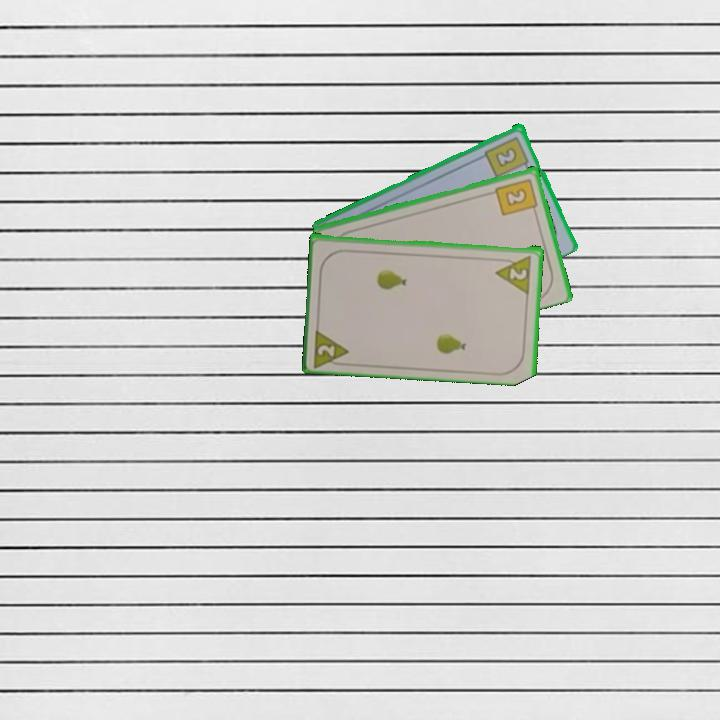2b: (481, 133, 532, 180), (492, 175, 540, 218)
2p: (310, 324, 352, 368), (493, 252, 534, 295)
